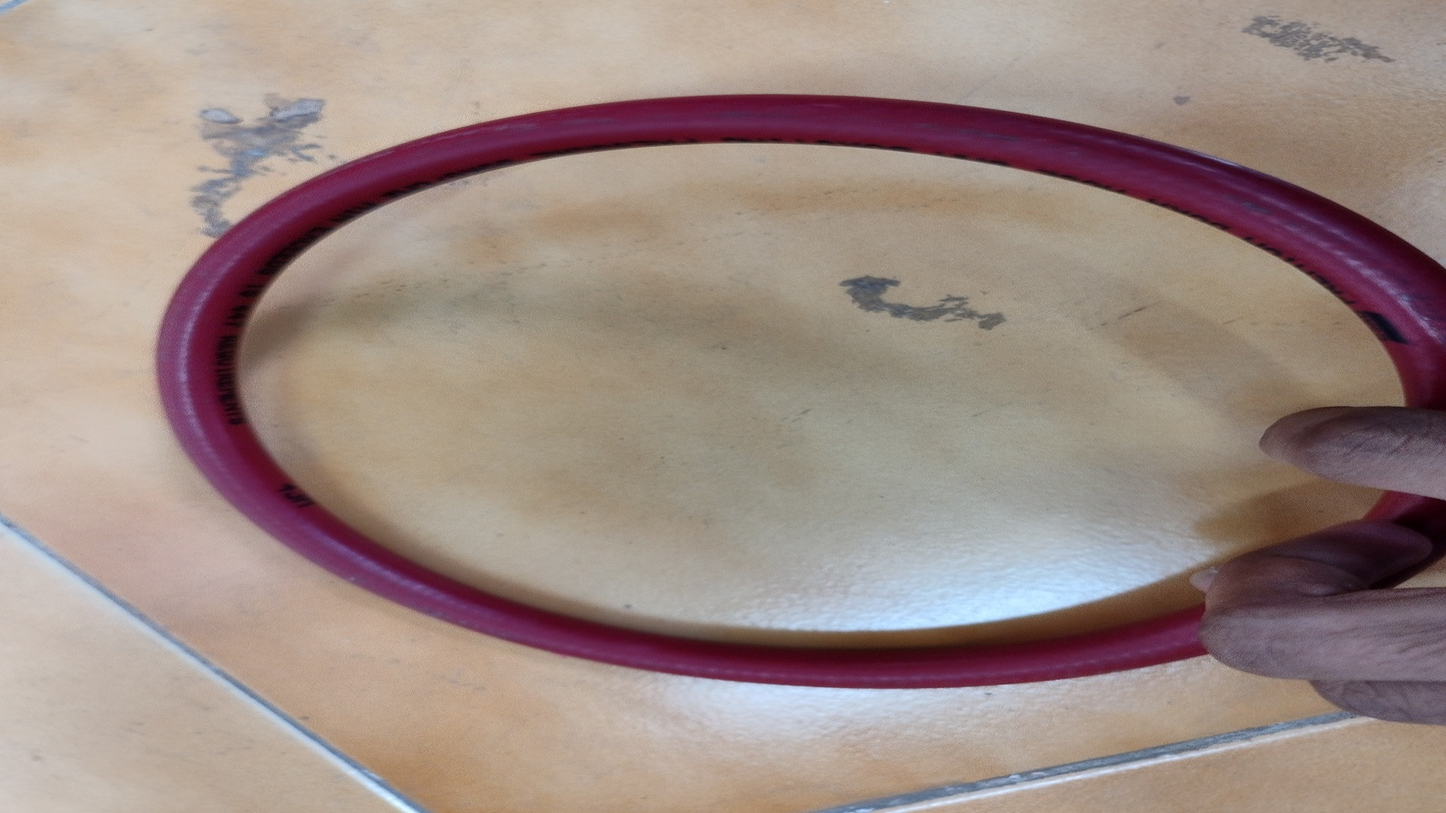Red ring: (156, 97, 1446, 688)
